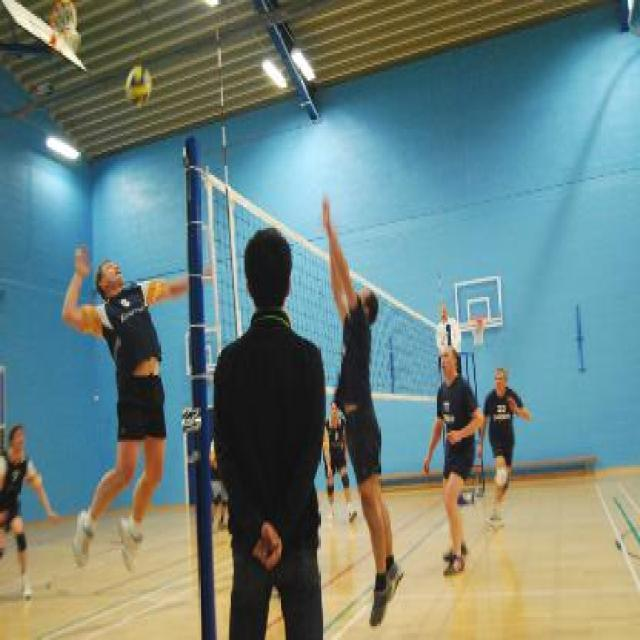volleyball: (125, 66, 152, 106)
